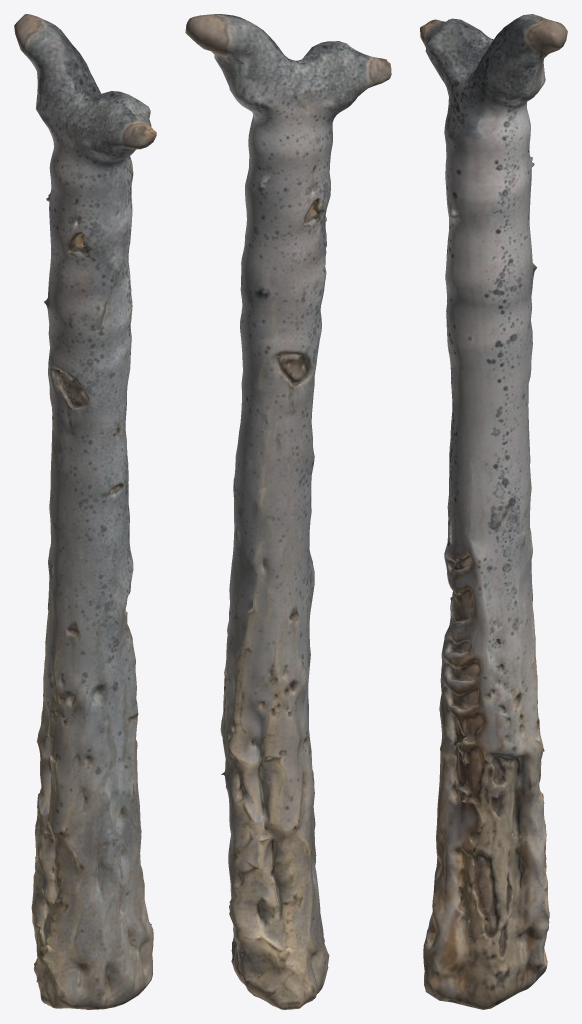
Rendered from dead_quiver_trunk.glb.
The picture shows the model from 3 angles, left to right: view 1: azimuth 90°, elevation 25°; view 2: azimuth 150°, elevation 25°; view 3: azimuth 270°, elevation 25°; orthographic projection. The views are drawn at different scales.
Parts seen in each view (by area): view 1: dead_quiver_trunk_LOD0; view 2: dead_quiver_trunk_LOD0; view 3: dead_quiver_trunk_LOD0.
Part boxes in pixels (x1=…): dead_quiver_trunk_LOD0: x1=14, y1=14, x2=156, y2=1009; dead_quiver_trunk_LOD0: x1=185, y1=14, x2=391, y2=1009; dead_quiver_trunk_LOD0: x1=420, y1=14, x2=567, y2=1009.
Size of the model in its own units: 0.3065 by 1.99 by 0.2681.
Materials: 1 (1 with a texture image).
